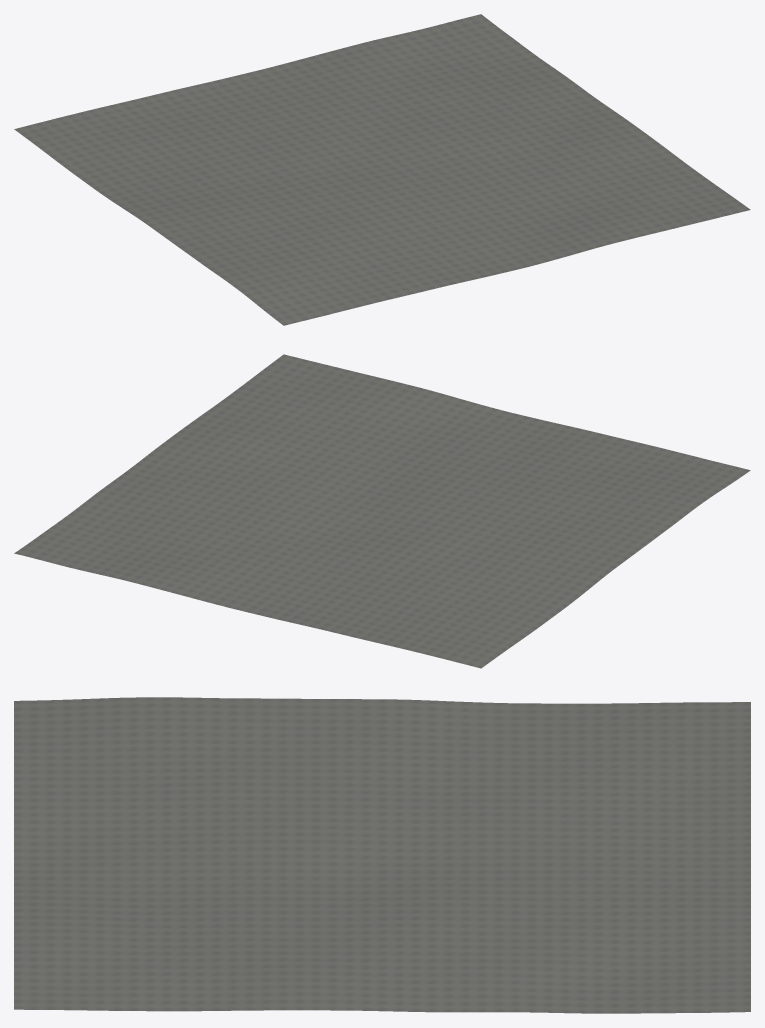
The model's file is Terrain LOWrez.glb.
3 views of the same model, one above another, from view 1: azimuth 30°, elevation 25°; view 2: azimuth 150°, elevation 25°; view 3: azimuth 270°, elevation 25° (orthographic). The views are drawn at different scales.
Parts seen in each view (by area): view 1: Plane; view 2: Plane; view 3: Plane.
Part boxes in pixels (x1=…): Plane: x1=14, y1=14, x2=750, y2=325; Plane: x1=14, y1=354, x2=750, y2=668; Plane: x1=14, y1=697, x2=750, y2=1013.
Bounding box in the file's own units: 144 × 1.44 × 144.
Materials: 1 (1 with a texture image).
